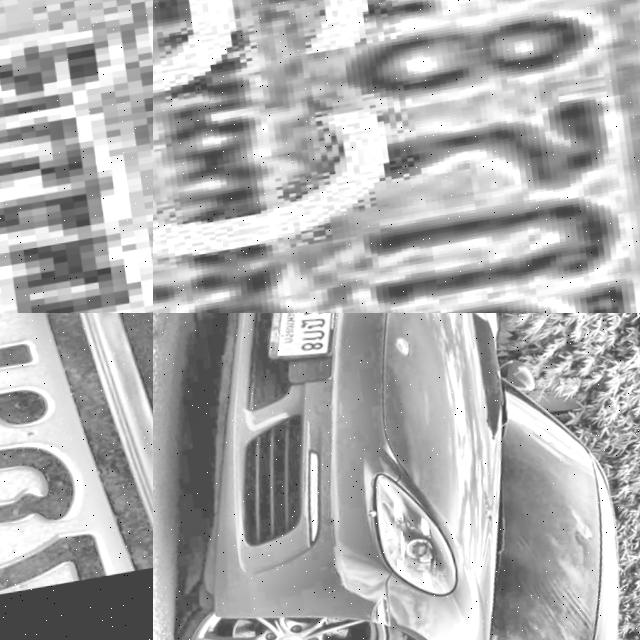license-plate: (153, 0, 640, 313), (0, 313, 153, 640), (0, 0, 153, 313), (247, 313, 350, 380)
